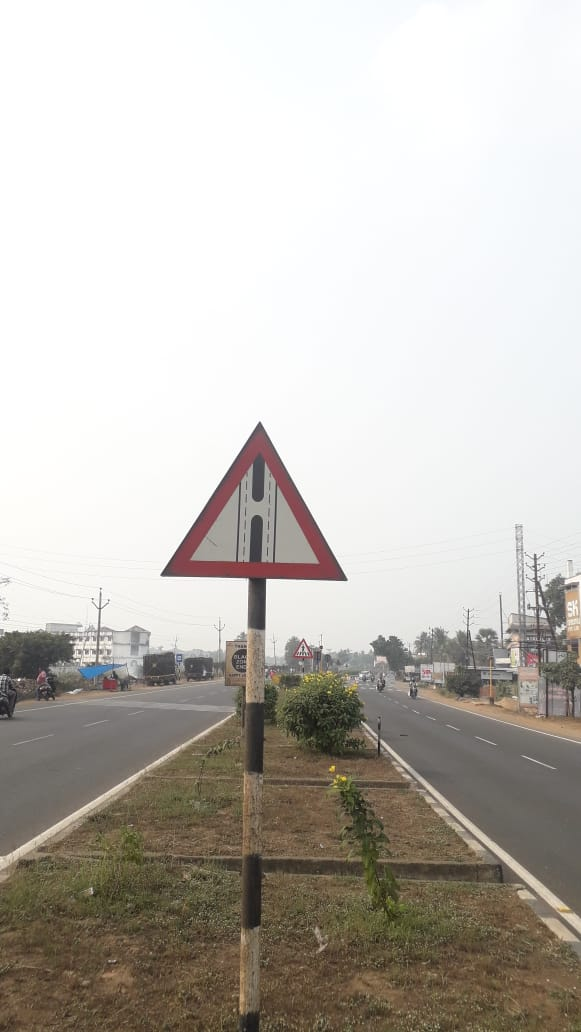highway go straight: (146, 415, 381, 650)
